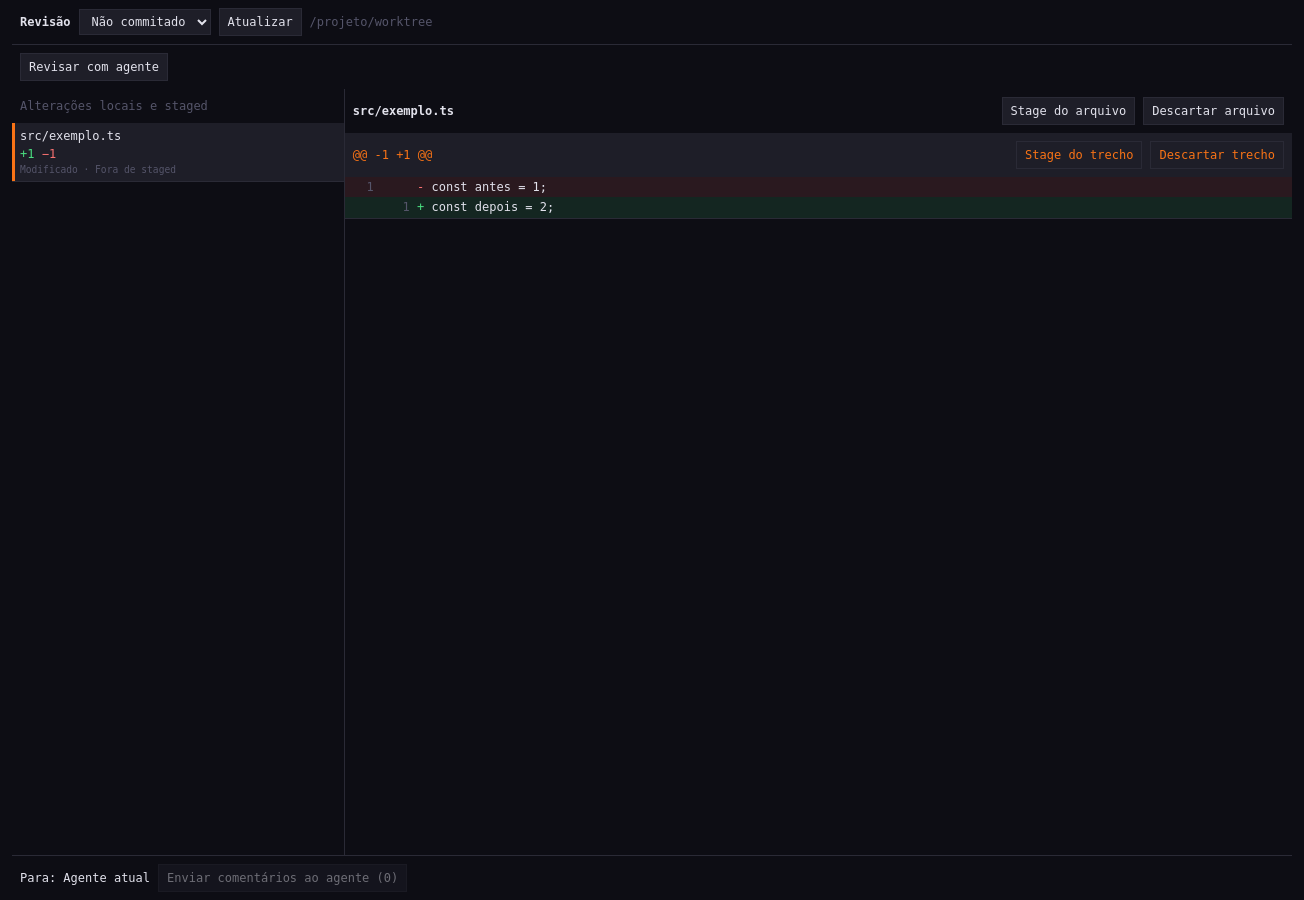
agrega comentários das duas versões com arquivo:linha e trecho, e os envia à sessão de origem
Click the button with aria-label "Comentar linha 1 anterior" at (489, 187), box 345,177 -> 1292,197
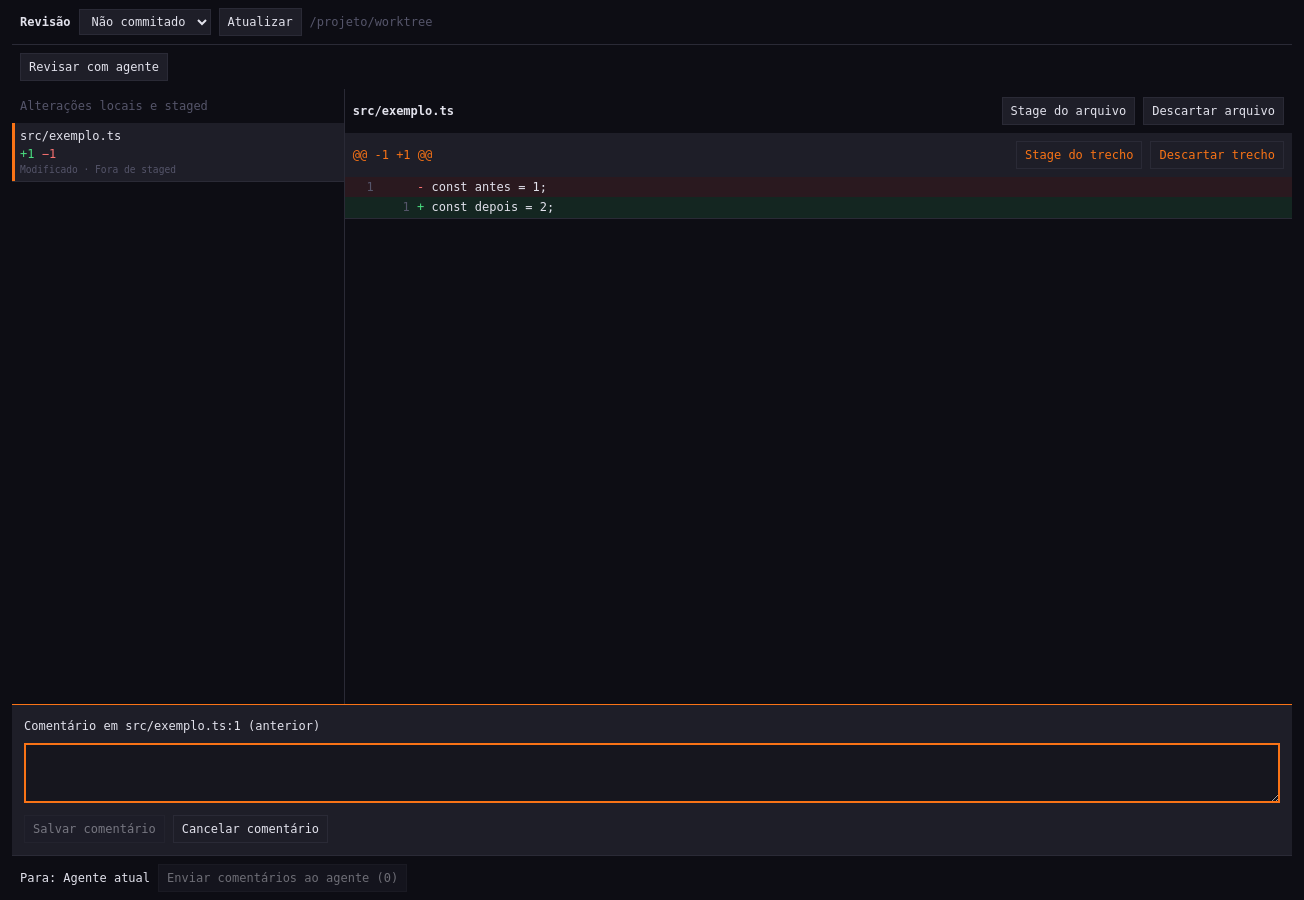
Type "Preservar a validação" into the text box at (652, 773), box 24,743 -> 1280,803
Click the button "Salvar comentário" at (94, 829), box 24,815 -> 165,843
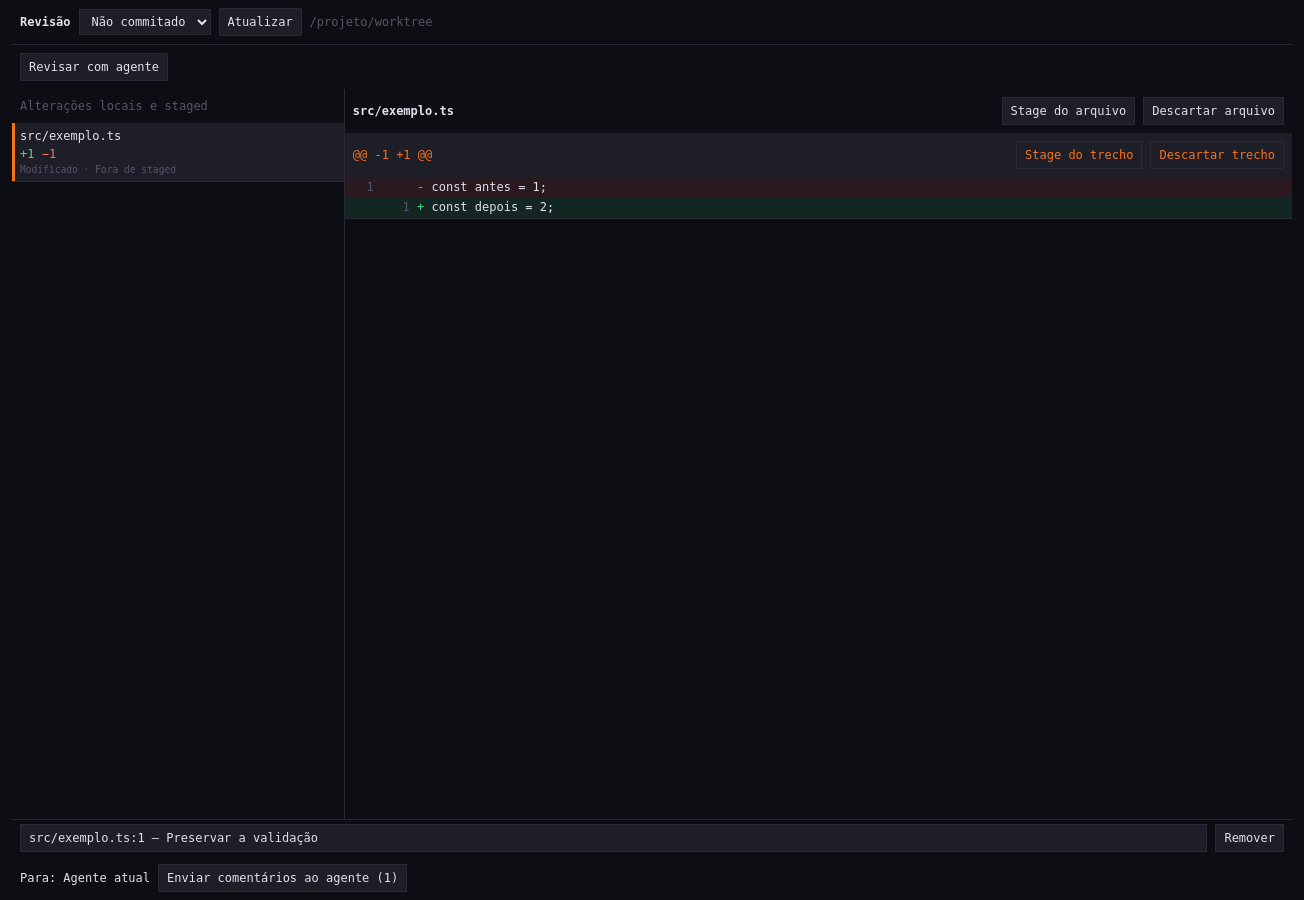
Click the button with aria-label "Comentar linha 1 atual" at (493, 207), box 345,197 -> 1292,218
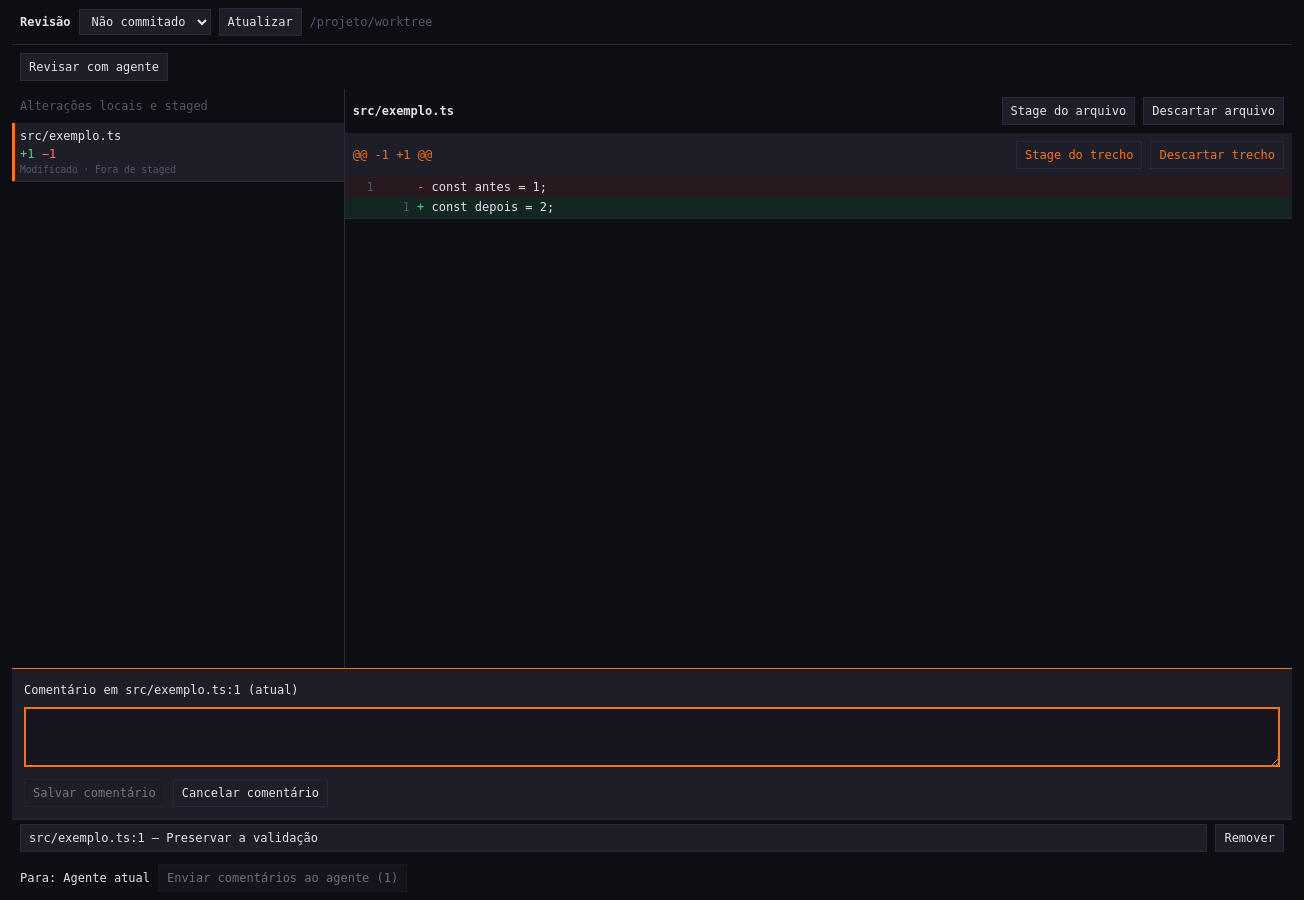
Type "Usar constante" into the text box at (652, 737), box 24,707 -> 1280,767
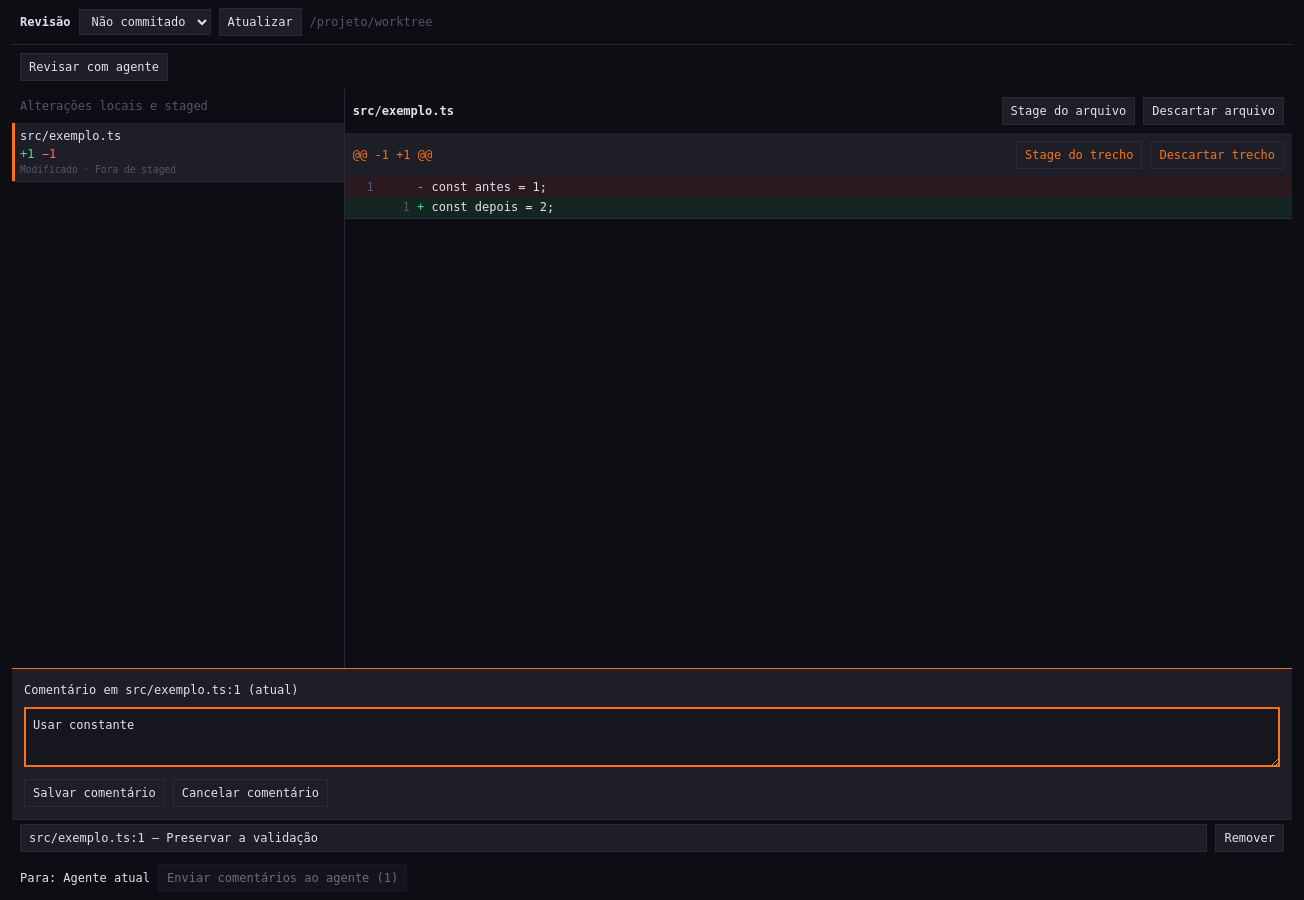
Click the button "Salvar comentário" at (94, 793), box 24,779 -> 165,807
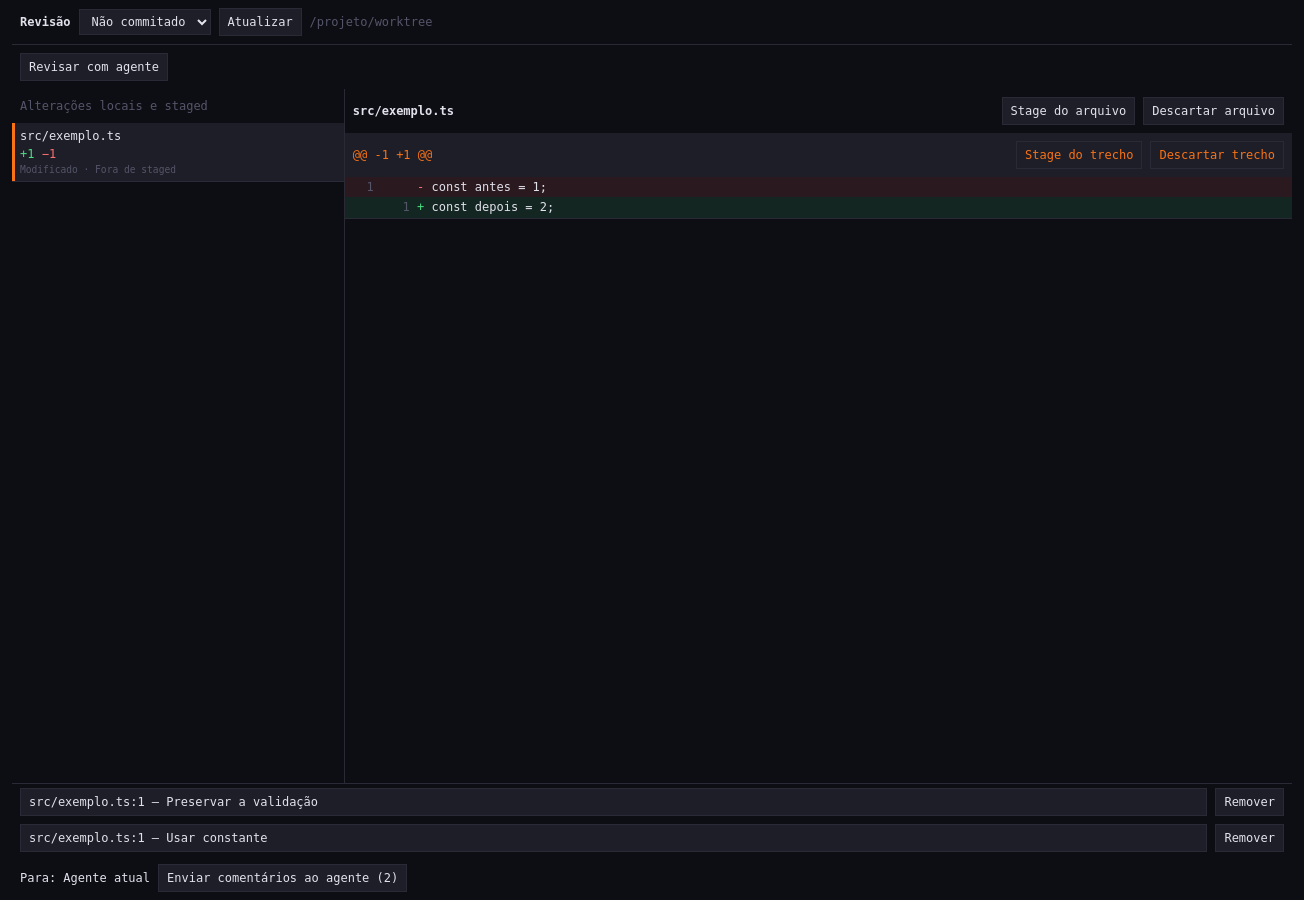
Click the button "Enviar comentários ao agente (2)" at (283, 878), box 158,864 -> 407,892
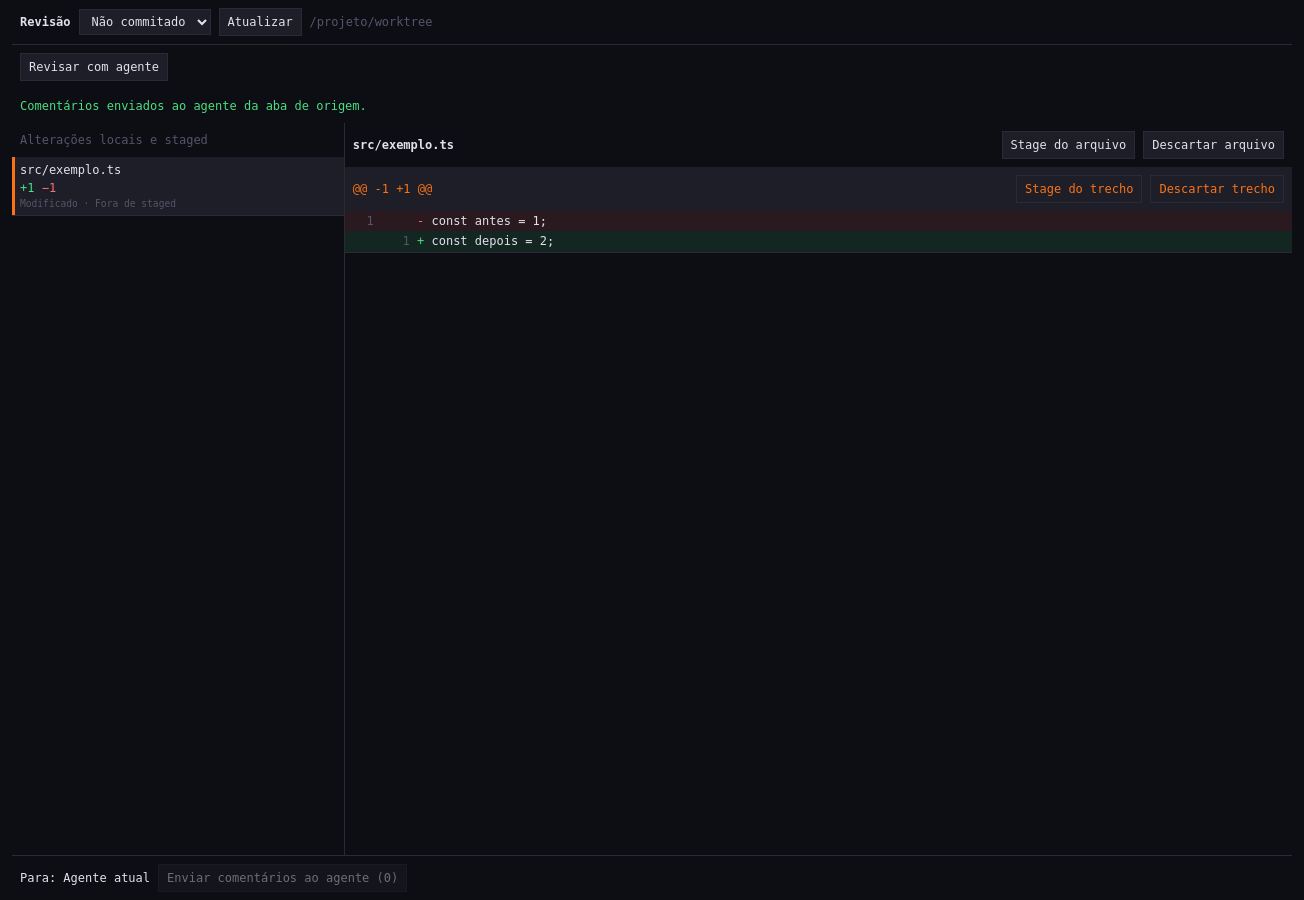
Now the message shows "Comentários enviados", box 20,99 -> 367,113
Now the button "Enviar comentários ao agente (0)" is disabled, box 158,864 -> 407,892
